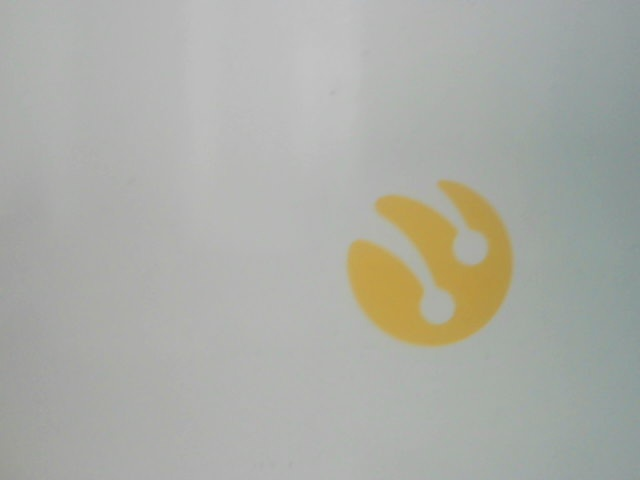AV_H3600Yellow: (337, 172, 532, 351)
